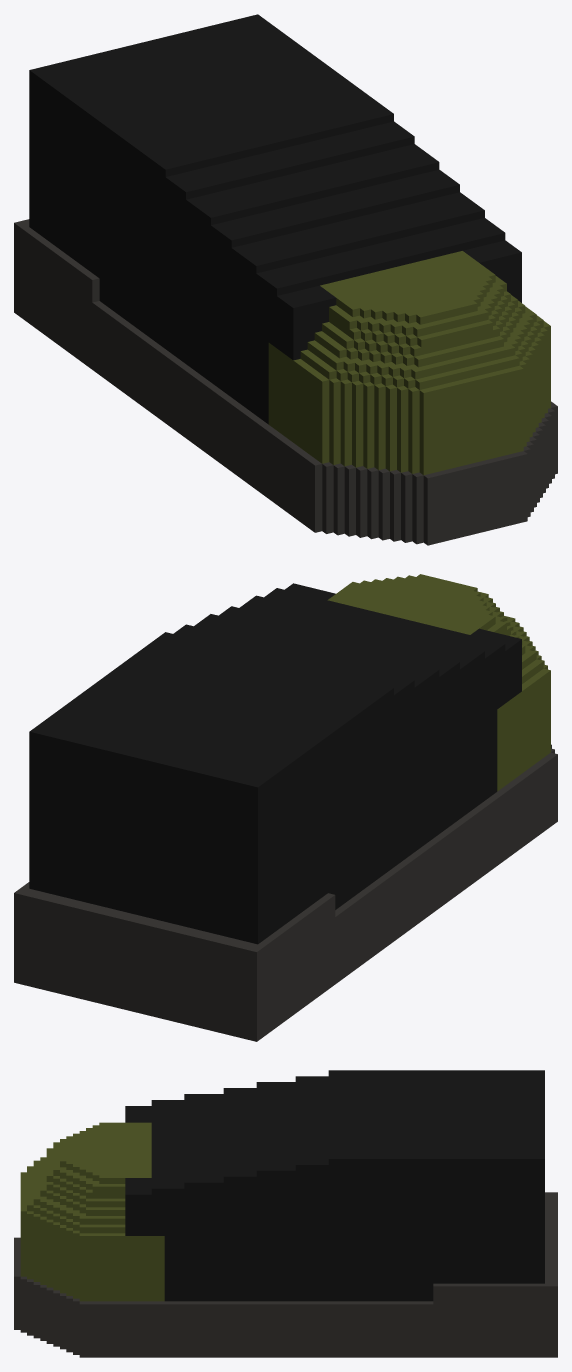
File: boots_trooper_worn_foot.glb
3 renders of one model, top to bottom at view 1: azimuth 30°, elevation 25°; view 2: azimuth 150°, elevation 25°; view 3: azimuth 270°, elevation 25°, orthographic. The views are drawn at different scales.
Parts seen in each view (by area): view 1: boots_trooper_worn_foot:compound; view 2: boots_trooper_worn_foot:compound; view 3: boots_trooper_worn_foot:compound.
Part boxes in pixels (<box>): boots_trooper_worn_foot:compound: <box>14,14,557,545</box>; boots_trooper_worn_foot:compound: <box>14,574,557,1041</box>; boots_trooper_worn_foot:compound: <box>14,1070,557,1357</box>.
Bounding box in the file's own units: 0.136 × 0.132 × 0.332.
